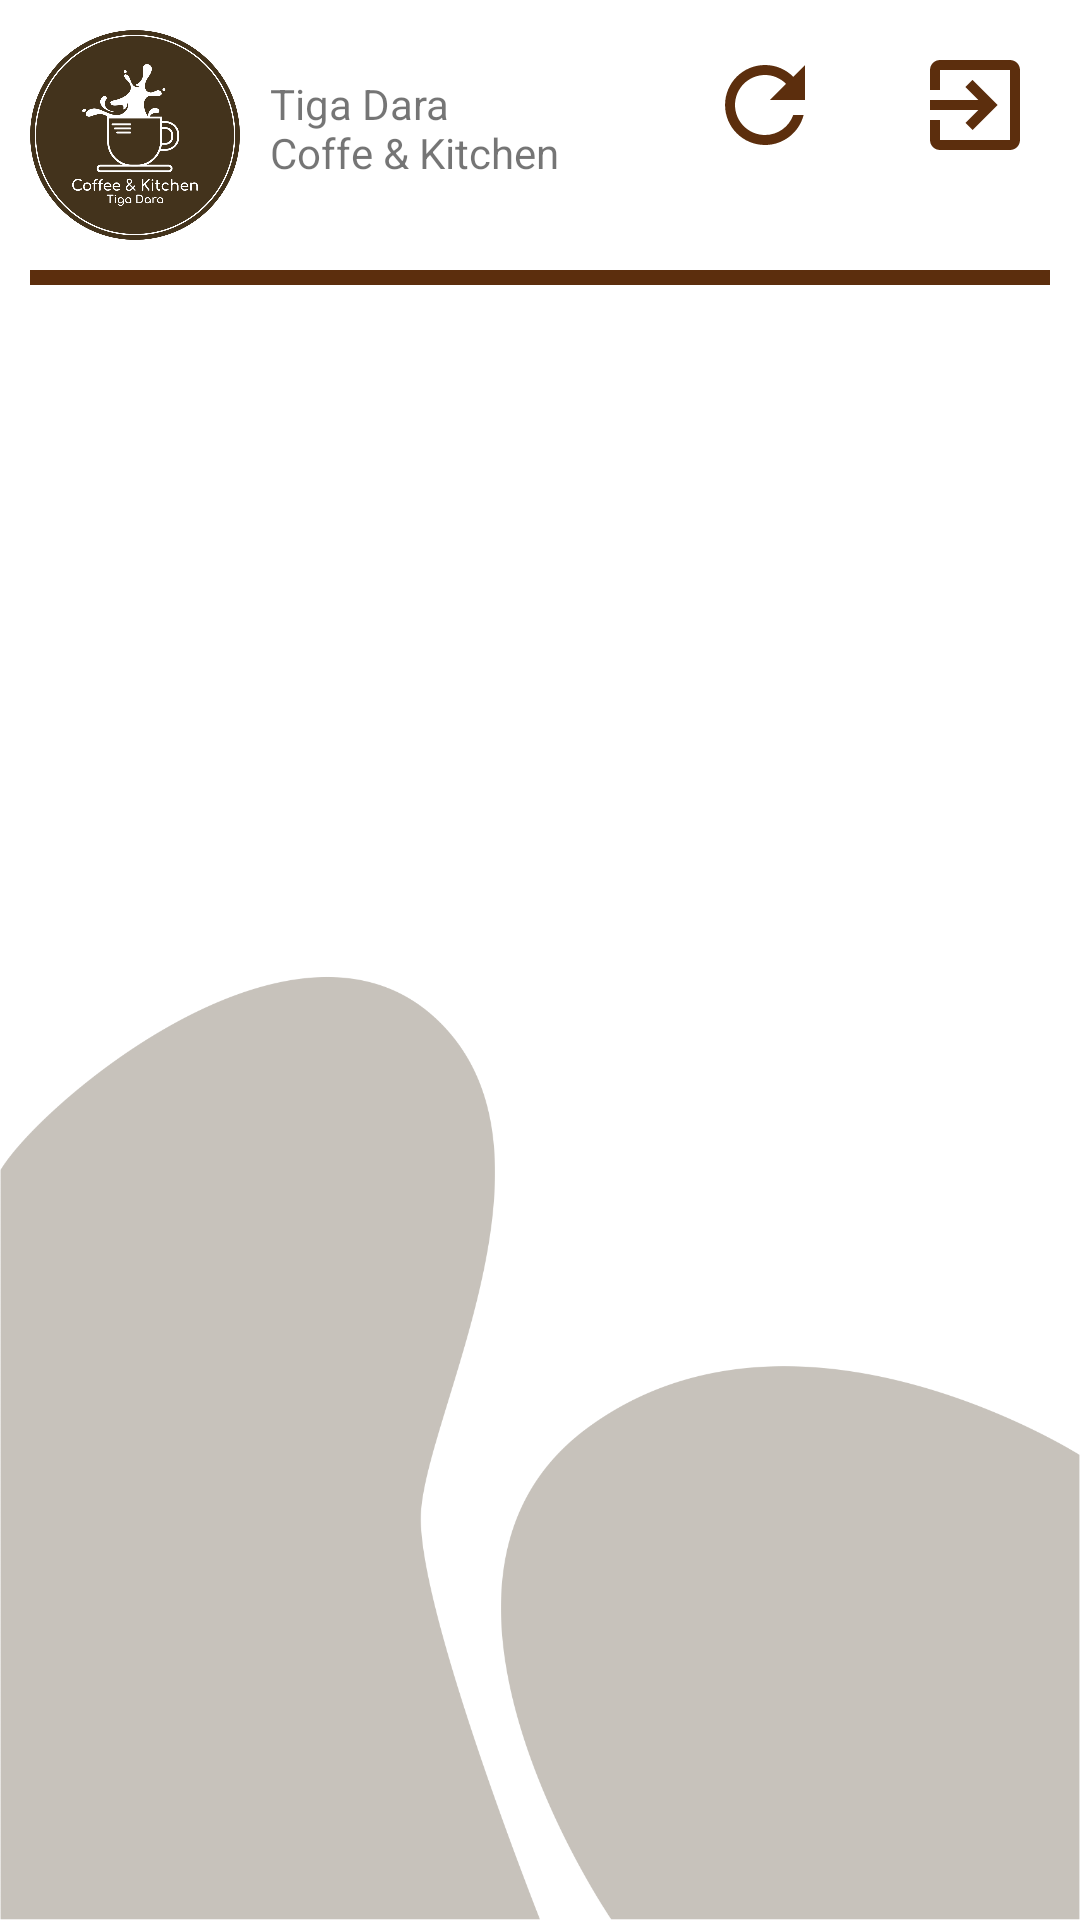

Icon bounding boxes for this 1080*1920 phone screenshot, format (x1, y1, x2, y2):
exit to app: (930, 60, 1020, 150)
refresh: (725, 65, 805, 145)
